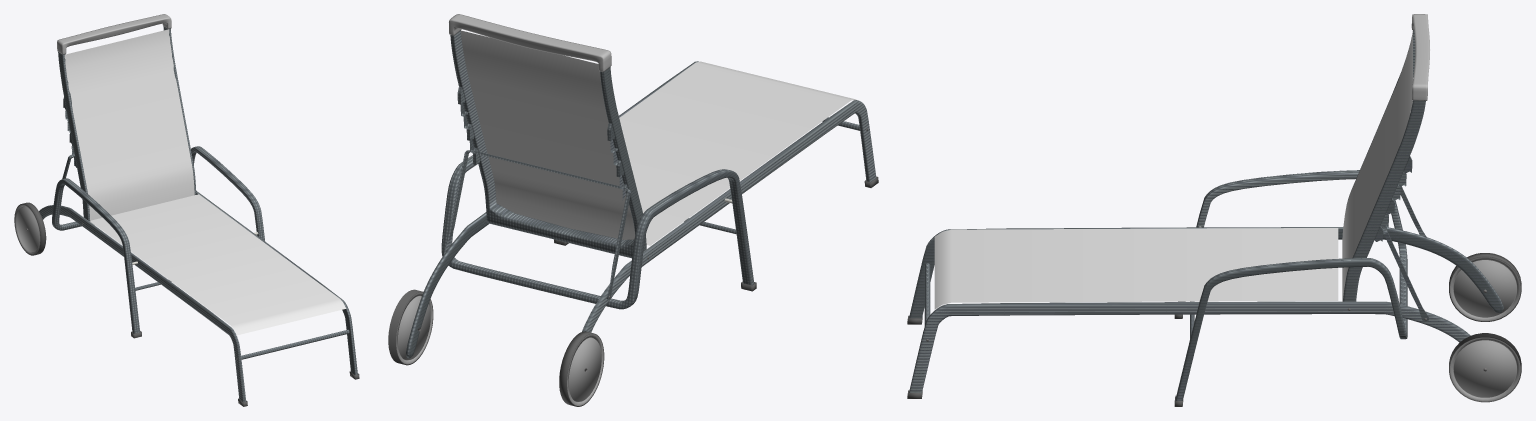
File: sweethome3d-scopia-beach-chair-98.glb
3 renders of one model, left to right at view 1: azimuth 30°, elevation 25°; view 2: azimuth 150°, elevation 25°; view 3: azimuth 270°, elevation 25°, orthographic. The views are drawn at different scales.
Parts seen in each view (by area): view 1: fabric_Cube_1_1_1_1, 3_3_3_3, 2_2_2_2, 7_7_7_7, 5_5_5_5, 6_6_6_6; view 2: fabric_Cube_9_9_9_9, fabric_Cube_1_1_1_1, 3_3_3_3, 5_5_5_5, 2_2_2_2, 7_7_7_7, 15_12_12_12, 6_6_6_6, 14_11_11_11; view 3: fabric_Cube_1_1_1_1, 3_3_3_3, 7_7_7_7, 5_5_5_5, 2_2_2_2, 6_6_6_6.
Boxes of the visible parts, <box> form: fabric_Cube_1_1_1_1: <box>64,29,345,335</box>; 3_3_3_3: <box>39,26,357,402</box>; 2_2_2_2: <box>57,14,171,54</box>; 7_7_7_7: <box>14,204,40,254</box>; 5_5_5_5: <box>62,97,349,359</box>; 6_6_6_6: <box>14,202,359,406</box>; fabric_Cube_9_9_9_9: <box>461,30,856,239</box>; fabric_Cube_1_1_1_1: <box>619,61,854,245</box>; 3_3_3_3: <box>406,30,876,358</box>; 5_5_5_5: <box>444,86,859,299</box>; 2_2_2_2: <box>449,14,611,71</box>; 7_7_7_7: <box>567,334,603,405</box>; 15_12_12_12: <box>396,292,432,364</box>; 6_6_6_6: <box>554,176,878,406</box>; 14_11_11_11: <box>388,289,433,365</box>; fabric_Cube_1_1_1_1: <box>934,30,1412,309</box>; 3_3_3_3: <box>909,30,1503,400</box>; 7_7_7_7: <box>1450,257,1520,401</box>; 5_5_5_5: <box>924,156,1429,338</box>; 2_2_2_2: <box>1411,14,1429,100</box>; 6_6_6_6: <box>907,253,1521,406</box>.
Bounding box in the file's own units: 69.59 × 108 × 193.
Materials: 7 (1 with a texture image).
